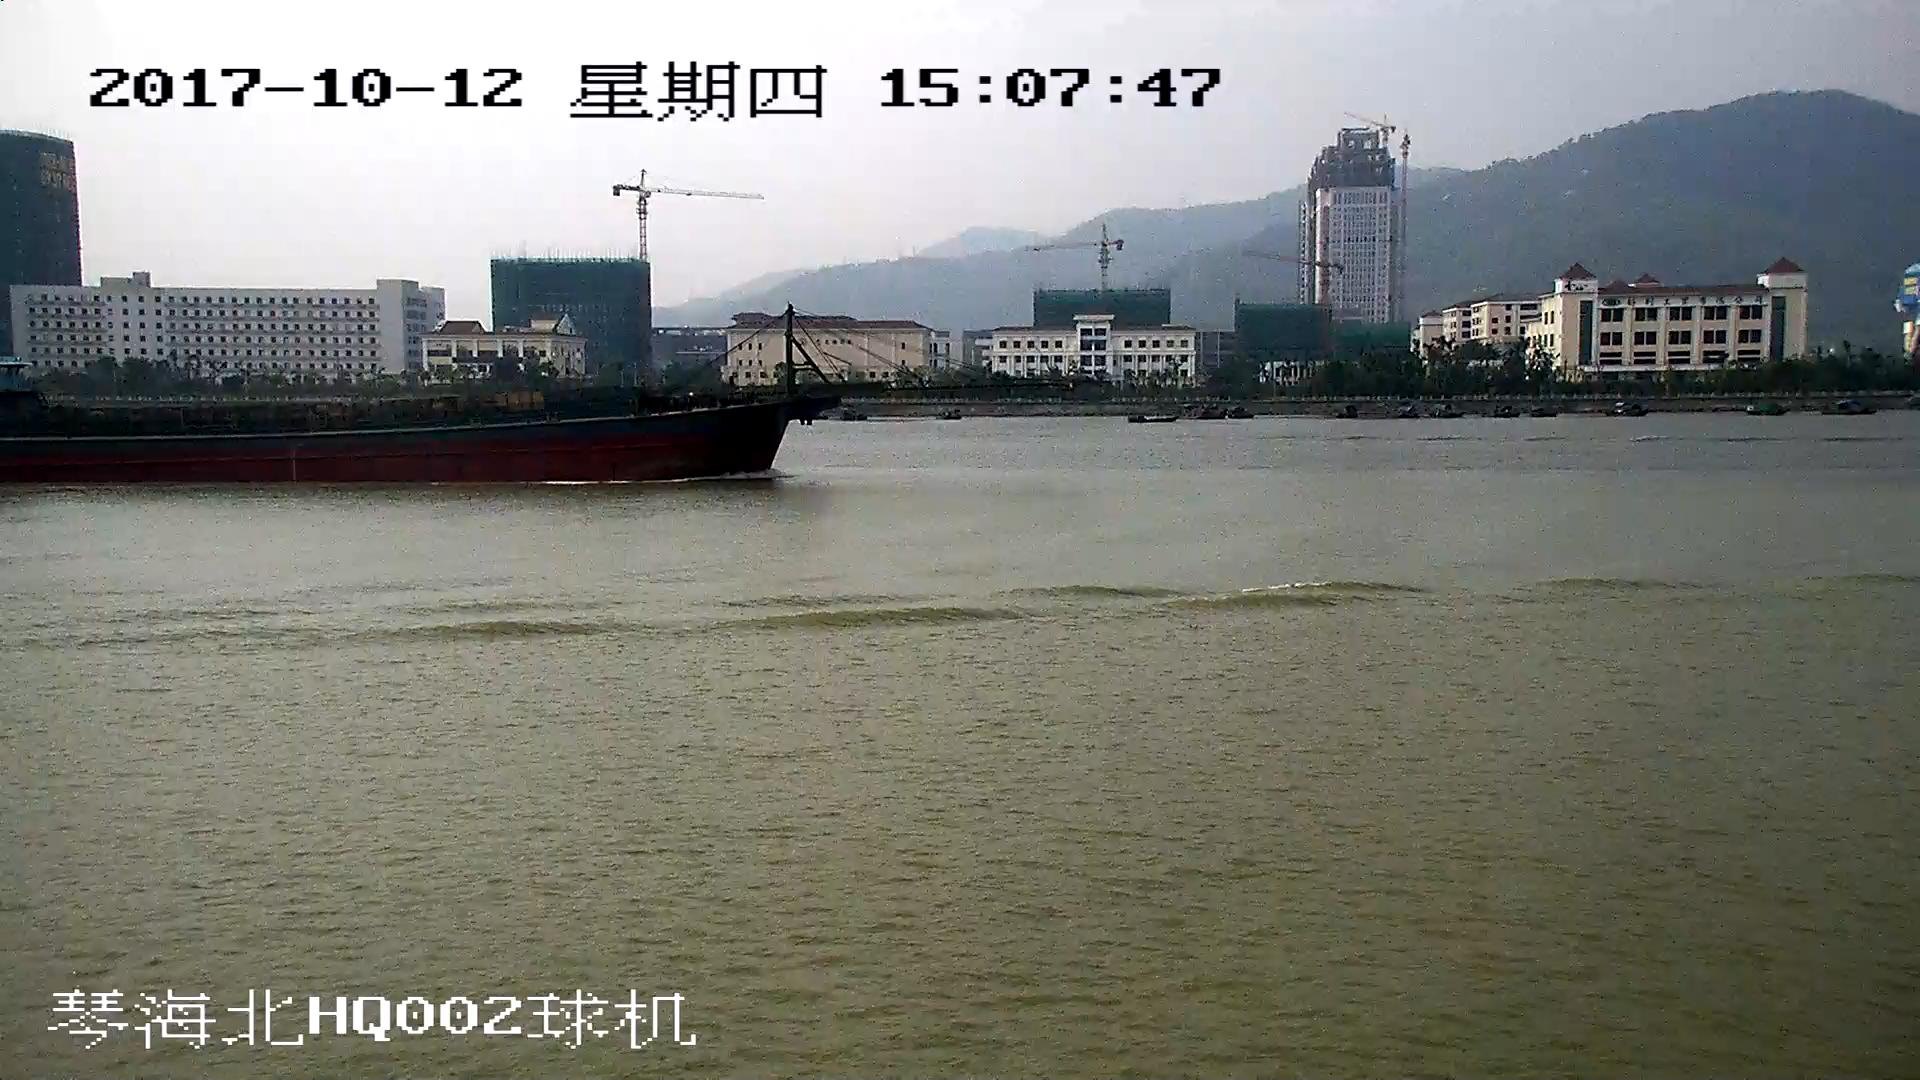bulk cargo carrier: (1, 302, 943, 482)
